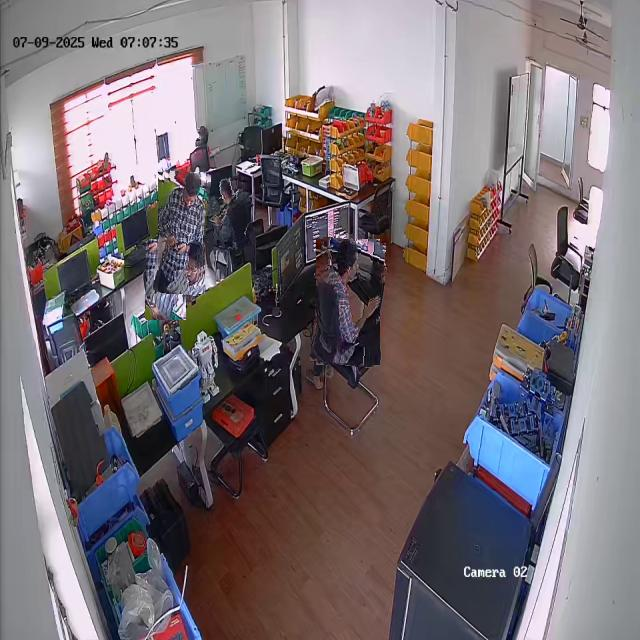person: (313, 238, 383, 367), (155, 171, 208, 295), (208, 177, 253, 252), (146, 240, 186, 320)
